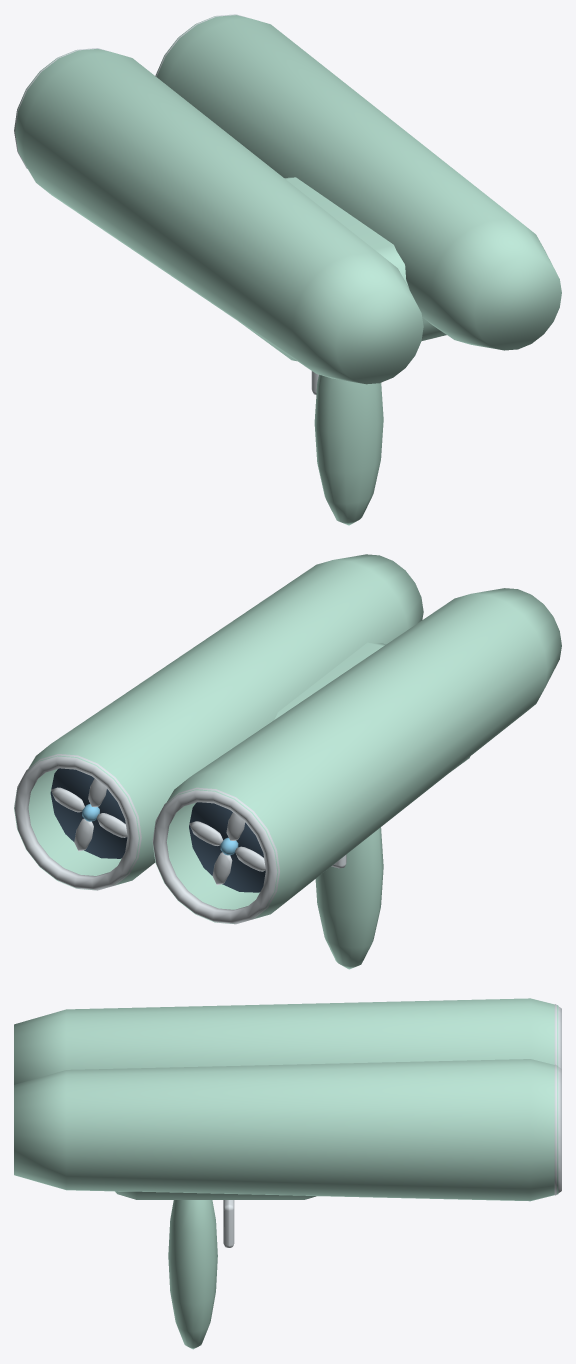
File: dryer_twin.glb
3 renders of one model, top to bottom at view 1: azimuth 30°, elevation 25°; view 2: azimuth 150°, elevation 25°; view 3: azimuth 270°, elevation 25°, orthographic. The views are drawn at different scales.
Visible parts, largest first — view 1: Body; view 2: Body, Fan_L, Fan_R; view 3: Body.
Boxes of the visible parts, <box> form: Body: <box>14,14,561,525</box>; Body: <box>14,554,561,969</box>; Fan_L: <box>189,812,265,885</box>; Fan_R: <box>51,778,127,851</box>; Body: <box>14,998,561,1349</box>.
Size of the model in its own units: 0.2092 by 0.2534 by 0.4.
Materials: 4 (4 with a texture image).
